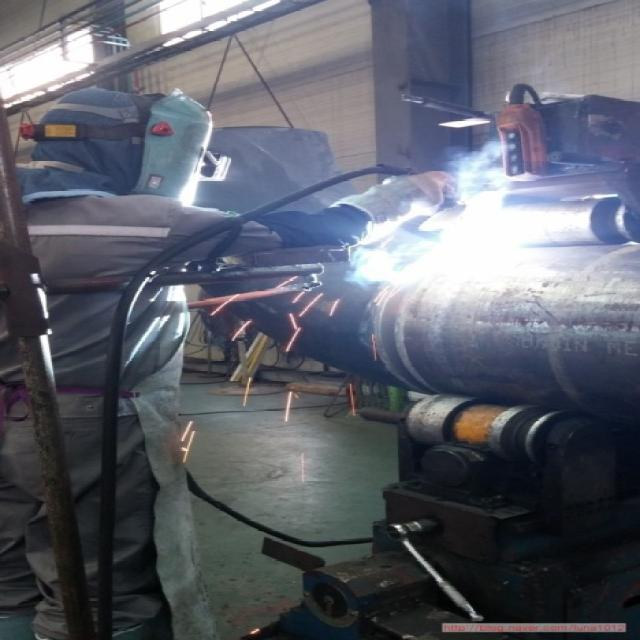welding: (403, 214, 501, 287)
